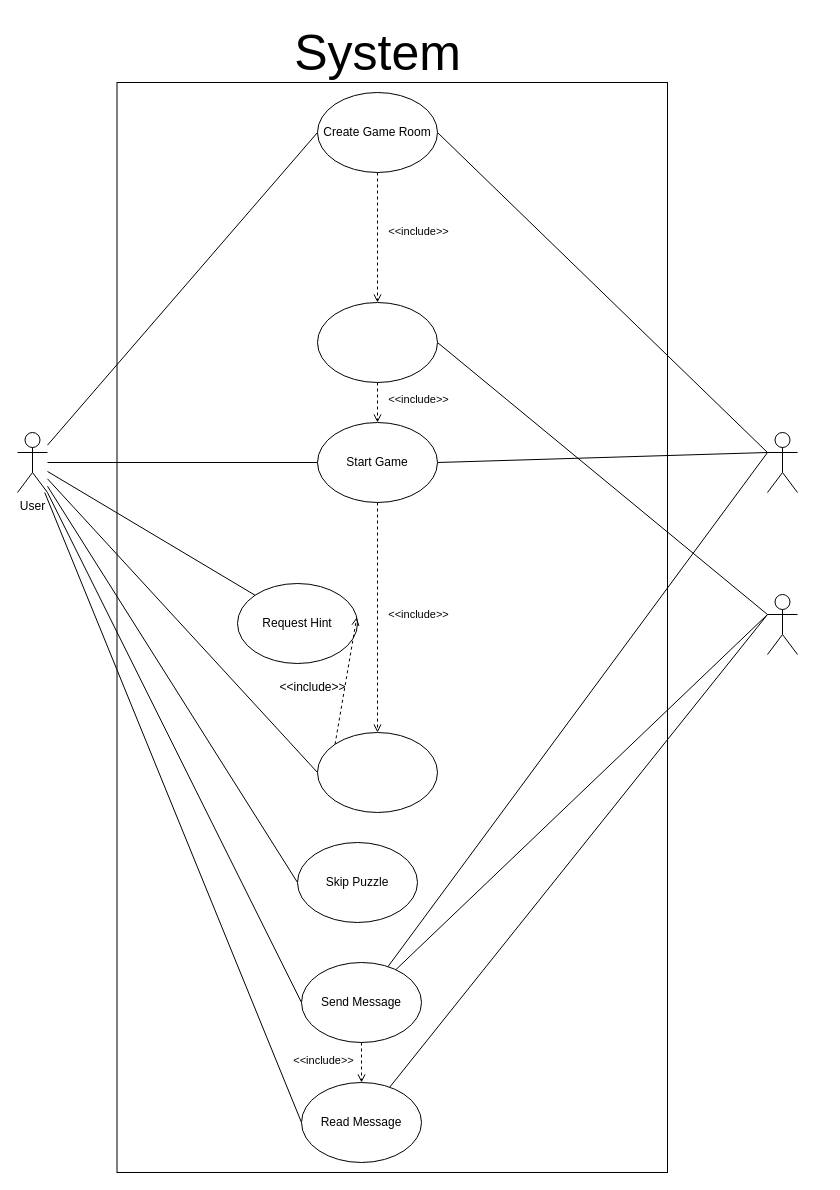
This 840x1190 diagram has some shape labels left out. Each missing label, with the centre of its shape:
Group Member: [782,624]
Interact With Puzzle: [377,772]
Join Game: [377,342]
Server: [782,462]
